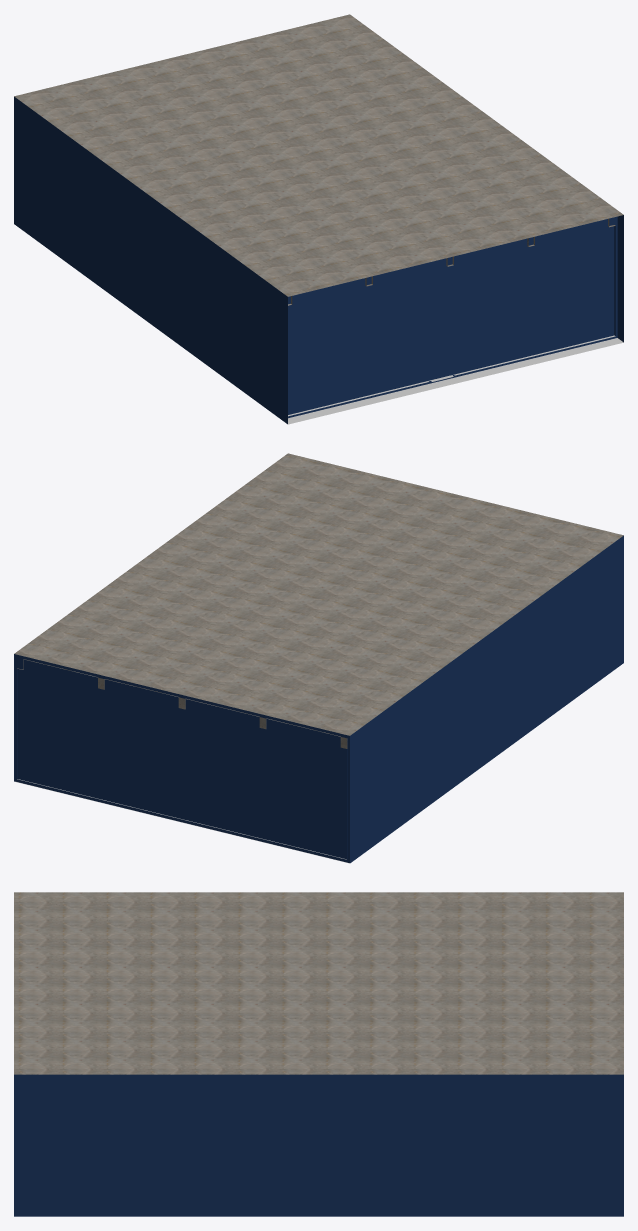
The model's file is warehouse_final_maybe.fbx.
3 renders of one model, top to bottom at view 1: azimuth 30°, elevation 25°; view 2: azimuth 150°, elevation 25°; view 3: azimuth 270°, elevation 25°, orthographic. The views are drawn at different scales.
Visible parts, largest first — view 1: Walls.005, Walls, Walls.006, Walls.004, Walls.003, Base; view 2: Walls.005, Walls.009, Walls.006, Ceiling; view 3: Walls.005, Walls.003.
Part boxes in pixels (left/top/right/bottom): Walls.005: left=14, top=14, right=623, bottom=296; Walls: left=288, top=216, right=617, bottom=418; Walls.006: left=14, top=96, right=287, bottom=424; Walls.004: left=288, top=338, right=623, bottom=424; Walls.003: left=617, top=215, right=623, bottom=342; Base: left=288, top=335, right=615, bottom=416; Walls.005: left=14, top=453, right=623, bottom=735; Walls.009: left=14, top=654, right=349, bottom=862; Walls.006: left=350, top=535, right=623, bottom=863; Ceiling: left=17, top=659, right=347, bottom=748; Walls.005: left=14, top=892, right=623, bottom=1074; Walls.003: left=14, top=1074, right=623, bottom=1216.
Bounding box in the file's own units: 1395 × 507 × 1971.
